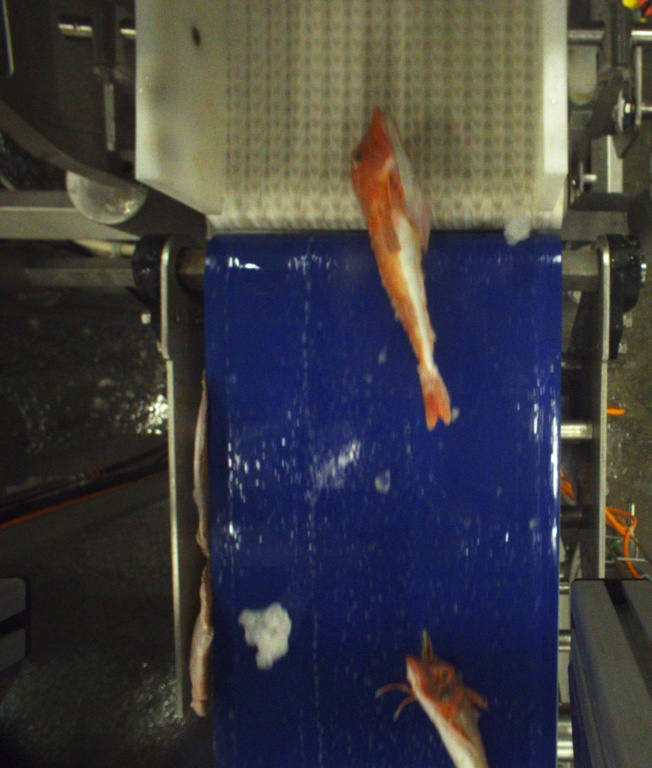GUU: (346, 107, 455, 430)
